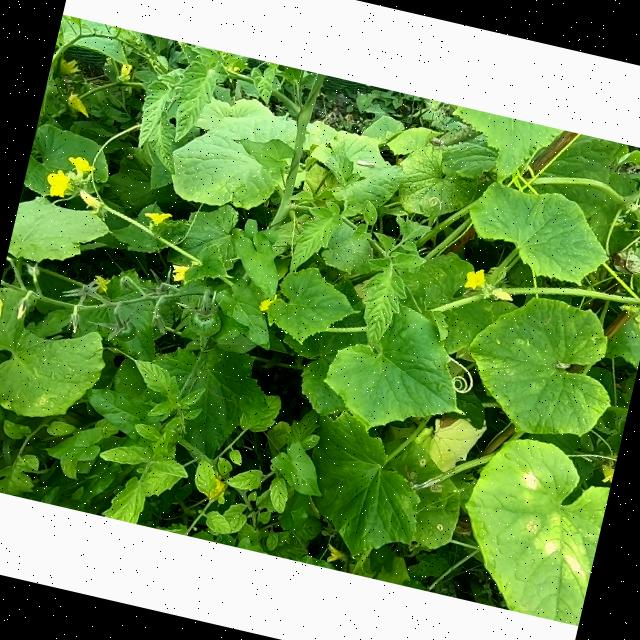Flowers: (42, 167, 72, 200), (66, 153, 97, 180), (140, 206, 173, 231), (64, 93, 94, 120), (460, 264, 487, 293), (322, 540, 346, 566), (168, 261, 190, 285), (58, 56, 80, 78), (90, 272, 112, 293), (258, 292, 277, 314), (117, 61, 135, 81), (600, 464, 614, 485)
